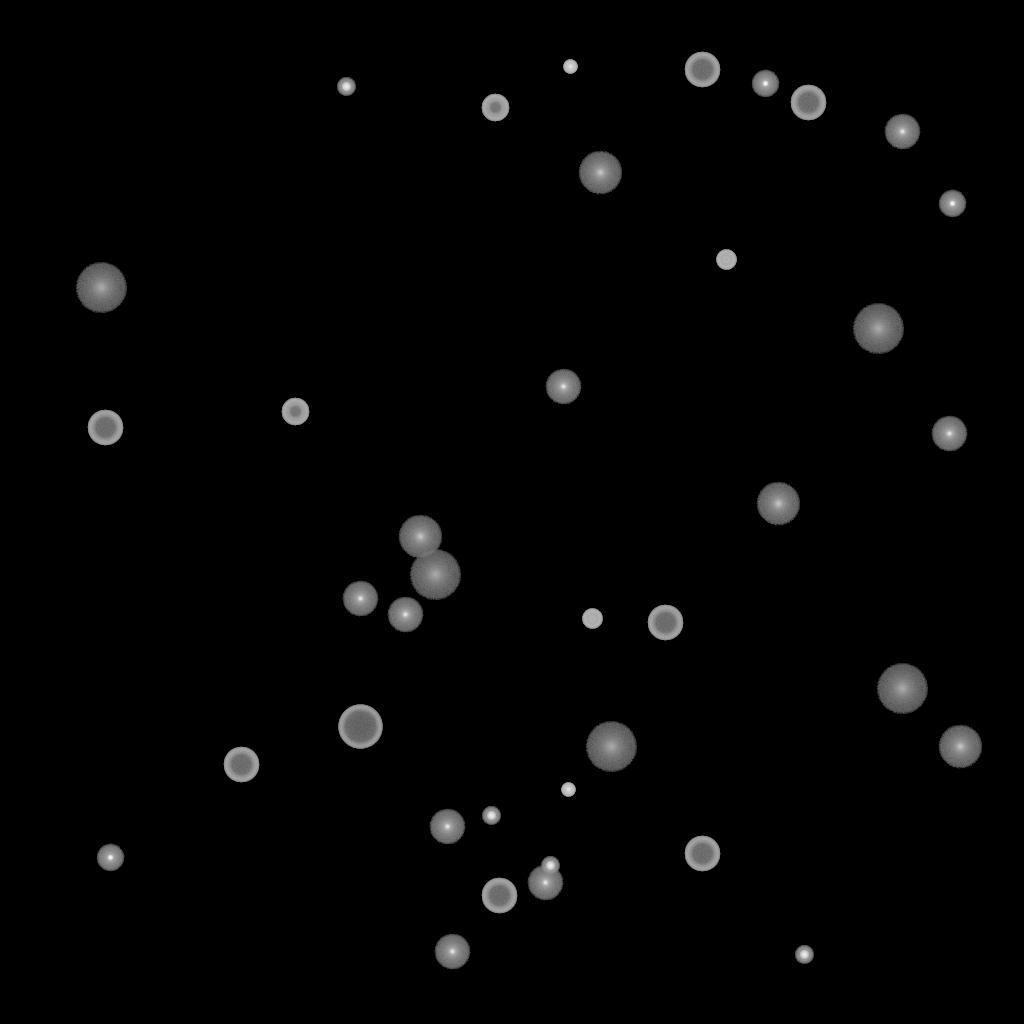depth:-10: (751, 70, 779, 98), (938, 190, 966, 218), (96, 844, 124, 872)
depth:-20: (337, 78, 355, 96), (482, 807, 500, 825), (541, 857, 559, 875), (795, 946, 813, 964)
depth:-30: (561, 783, 575, 797), (563, 60, 577, 74)
depth:-40: (582, 609, 602, 629), (716, 250, 736, 270)
depth:-50: (481, 94, 509, 122), (281, 398, 309, 426)
depth:-60: (223, 747, 259, 783), (647, 605, 683, 641), (684, 52, 720, 88), (481, 878, 517, 914), (87, 410, 123, 446), (684, 836, 720, 872), (790, 85, 826, 121)
depth:-70: (338, 705, 382, 749)
depth:0: (545, 369, 581, 405), (527, 865, 563, 901), (387, 597, 423, 633), (931, 416, 967, 452), (884, 114, 920, 150), (434, 934, 470, 970), (429, 809, 465, 845), (342, 581, 378, 617)
depth:10: (756, 482, 800, 526), (398, 515, 442, 559), (578, 151, 622, 195), (938, 725, 982, 769)
depth:20: (75, 263, 127, 313), (876, 664, 928, 714), (852, 304, 904, 354), (585, 722, 637, 772), (409, 550, 461, 600)
